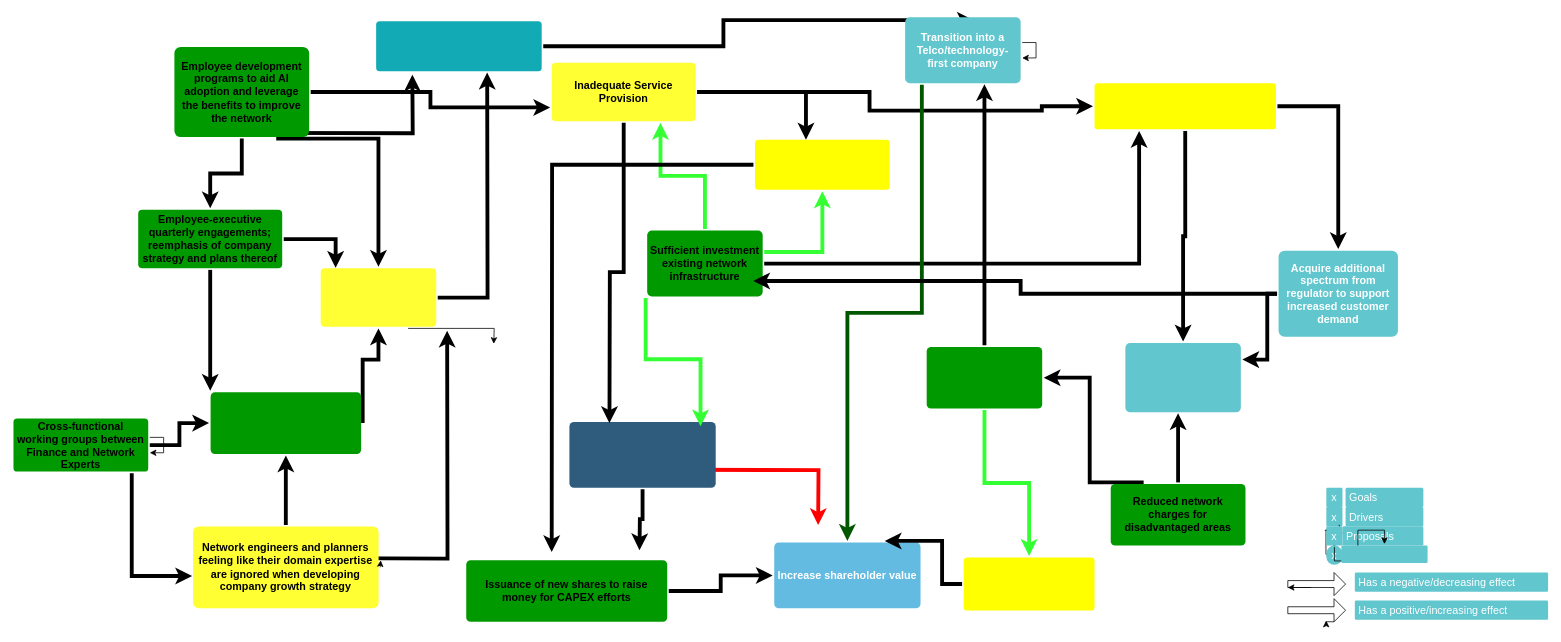
The diagram is 1561 pixels wide and 642 high, and some of its shapes have lost their labels. The box of each missing label's shape, as (x1, y1, x2, y2) in pixels:
Ability to compete in the market- reduced market share: (569, 422, 715, 487)
AI Adoption in workflow processes and strategy: (376, 21, 541, 71)
Customer dissatisfaction with service: (1094, 83, 1276, 129)
Digital Inclusion : network access to poor, underserved communities: (1125, 343, 1240, 412)
Fear of redundancy with coming AI adoption: (320, 268, 436, 326)
Hierarchical corporate structure with very little communication. Siloed teams: (210, 392, 361, 454)
Reduced investor confidence and investment ROI: (963, 557, 1094, 610)
Reduced Market Share: (755, 139, 889, 189)
Stalled Revenue growth: (926, 346, 1042, 408)
Standard Issues: (1341, 545, 1427, 563)
